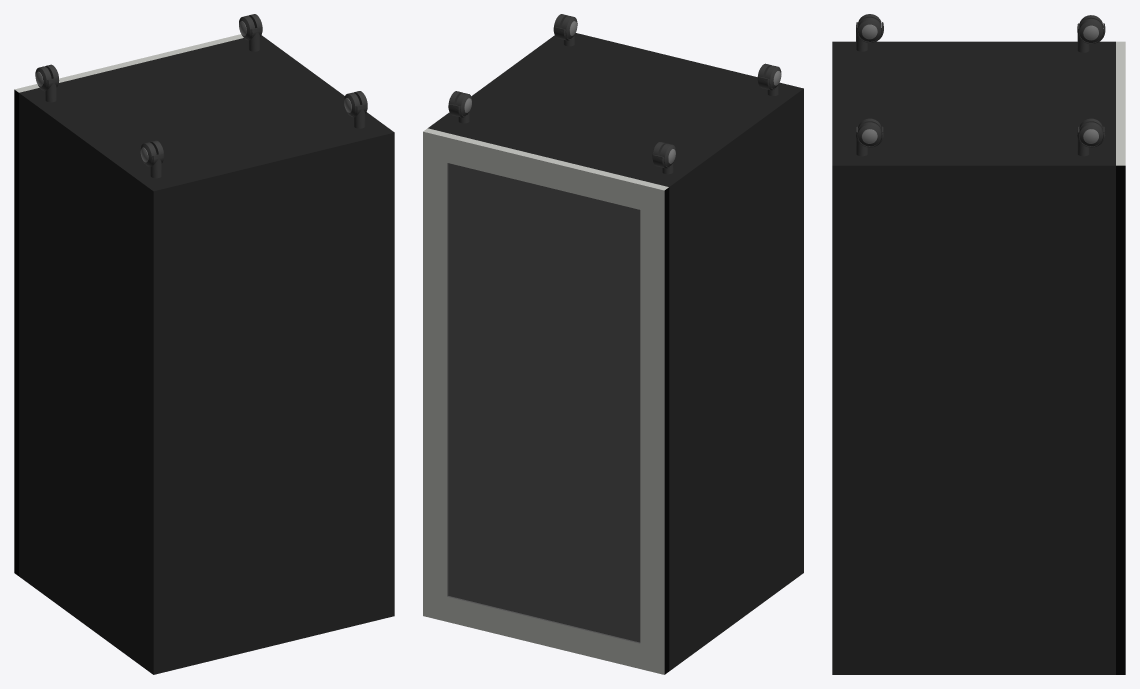
The model's file is GabineteInternet.fbx.
3 views of the same model, side by side, from view 1: azimuth 30°, elevation 25°; view 2: azimuth 150°, elevation 25°; view 3: azimuth 270°, elevation 25° (orthographic). The views are drawn at different scales.
Parts seen in each view (by area): view 1: group_ 64; view 2: group_ 64; view 3: group_ 64, Component#19, Component#19.001, Component#19.003, Component#19.002.
Boxes of the visible parts, x1,y1,x2,y2 form: group_ 64: [14, 34, 394, 674]; group_ 64: [423, 33, 803, 674]; group_ 64: [832, 41, 1125, 674]; Component#19: [1079, 118, 1103, 146]; Component#19.001: [1079, 15, 1103, 42]; Component#19.003: [858, 118, 881, 146]; Component#19.002: [858, 14, 881, 41].
Size of the model in its own units: 0.6 by 1.22 by 0.6.
6 materials, 1 textured.
